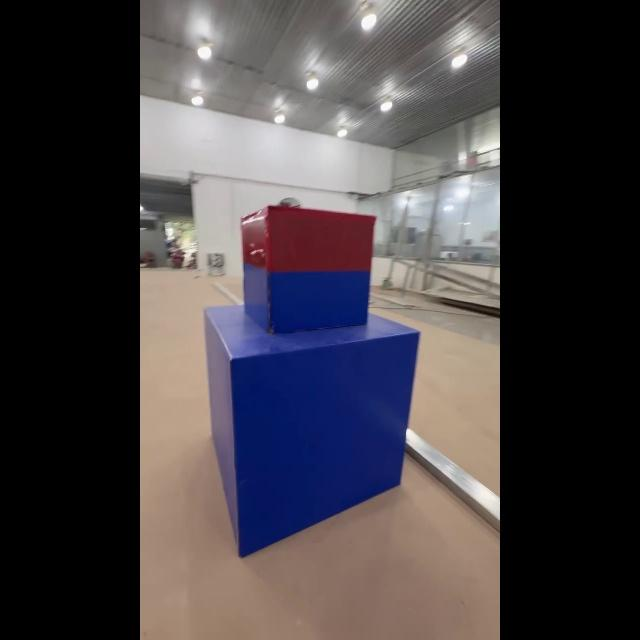sky_block: (237, 204, 380, 334)
